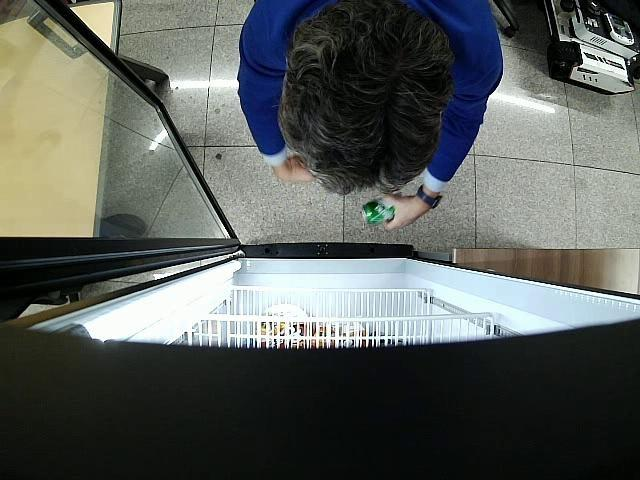12_chilsungCider: (362, 198, 395, 226)
